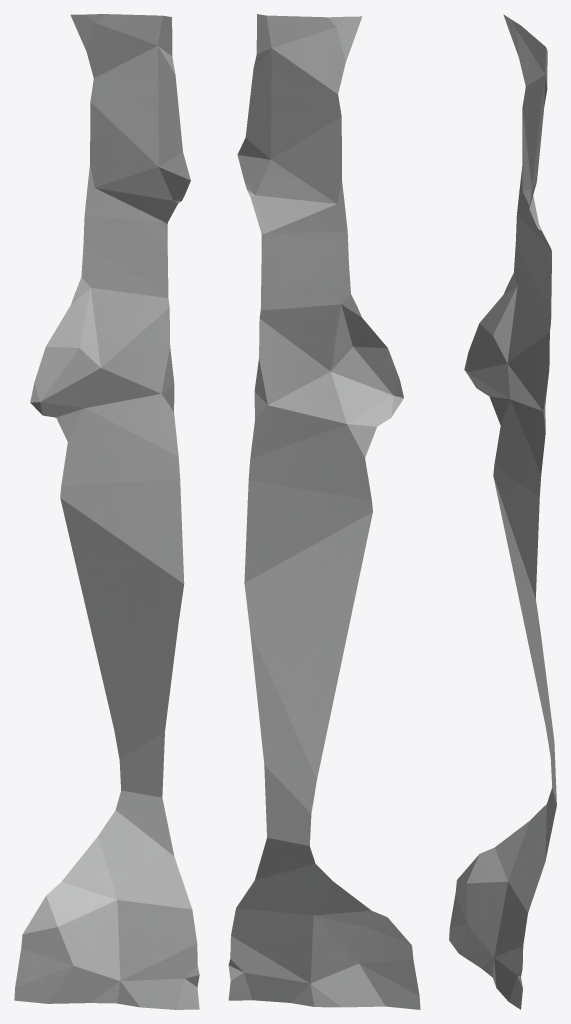
The picture shows the model from 3 angles, left to right: view 1: azimuth 30°, elevation 25°; view 2: azimuth 210°, elevation 25°; view 3: azimuth 330°, elevation 25°; orthographic projection. The views are drawn at different scales.
Bounding box in the file's own units: 0.1171 × 0.8373 × 0.0865.
1 material, 1 textured.
